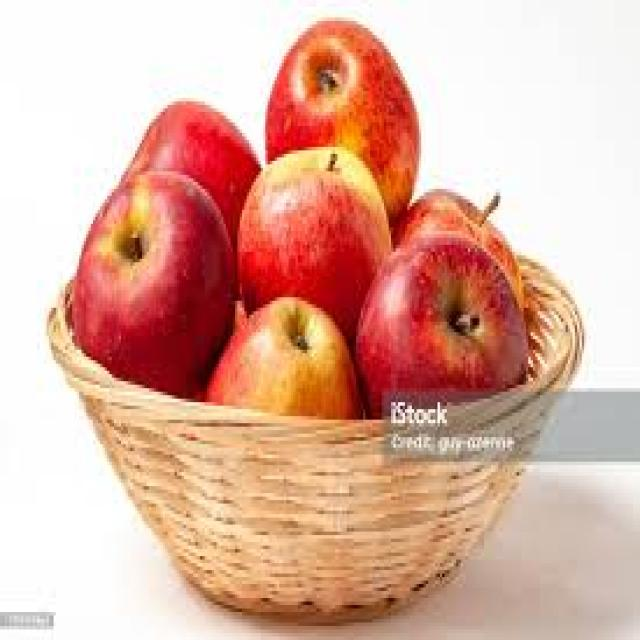non_orange: (163, 240, 377, 494), (342, 215, 542, 464), (42, 152, 225, 406), (369, 149, 556, 394), (100, 66, 267, 306), (249, 15, 438, 219), (223, 107, 388, 320)
